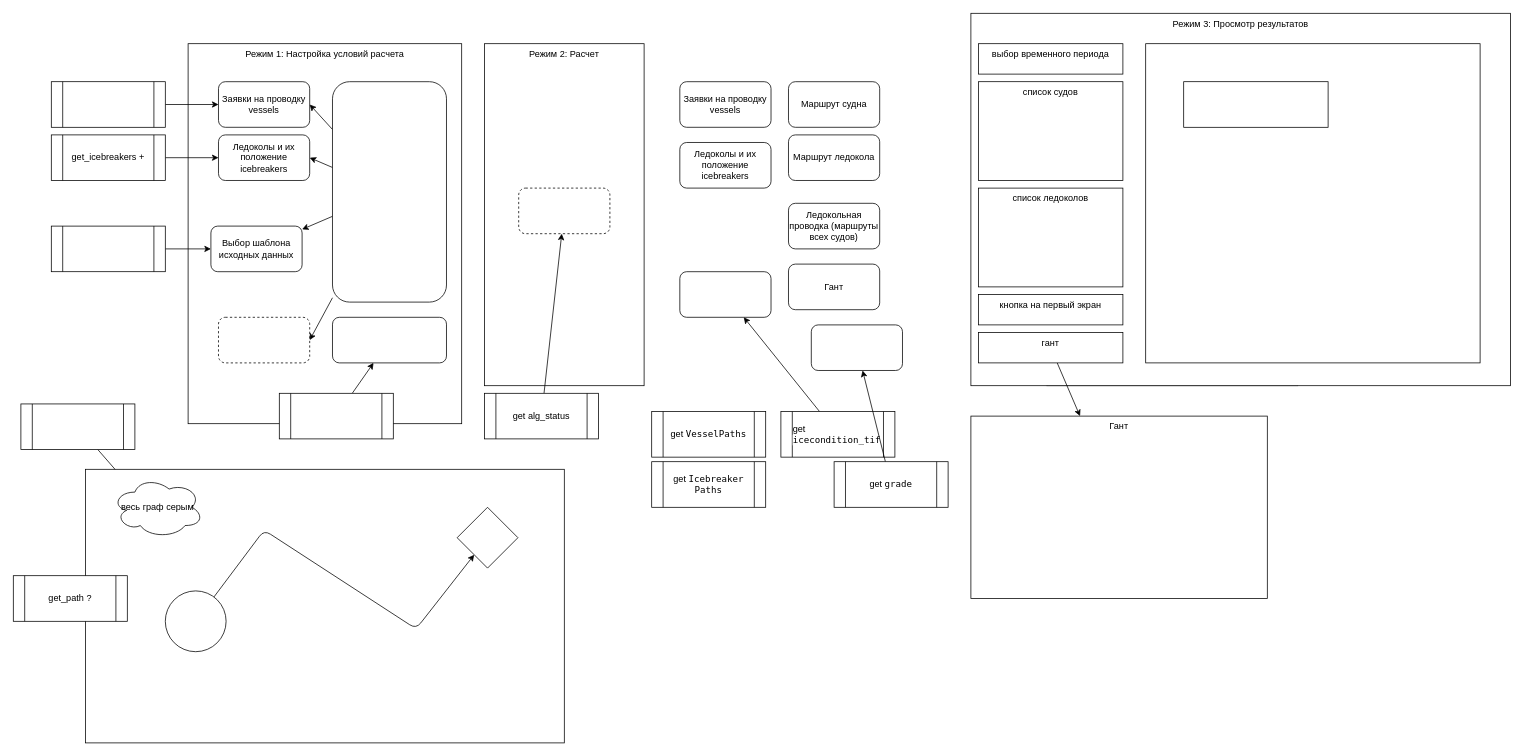
Image size: 1524x756. Some labels were removed from this diagram. The shapes that lost their labels are listed below. From the top down, each one's box as (x1, y1, x2, y2) in pixels, then its label:
(51, 81, 165, 127): get_vessels +
(1183, 81, 1328, 127): оценка получившегося решения сколько застряло, суммарное время в часах
(332, 81, 446, 302): Просмотр Загрузка из шаблона Удаление Редактирование
(518, 187, 610, 234): Прогрессбар
(1145, 43, 1480, 363): карта с треками
(51, 225, 165, 272): get_templates + POST load_template +
(679, 271, 771, 317): Ледовая обстановка
(218, 317, 310, 363): Константы
(332, 317, 446, 363): Выбор и запуск алгоритма
(811, 324, 902, 370): Общая оценка
(20, 403, 135, 450): get_base_edges + get_base_nodes +
(279, 393, 393, 439): get_alg + POST alg +
(85, 469, 564, 743): Карта
